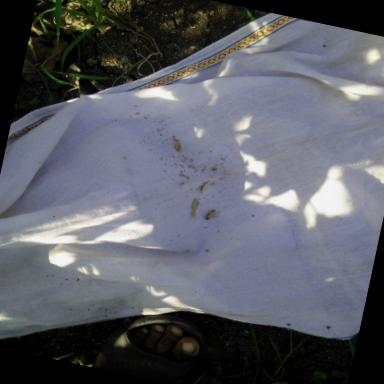pbw: (204, 207, 222, 222), (170, 137, 182, 152), (199, 178, 209, 194)
